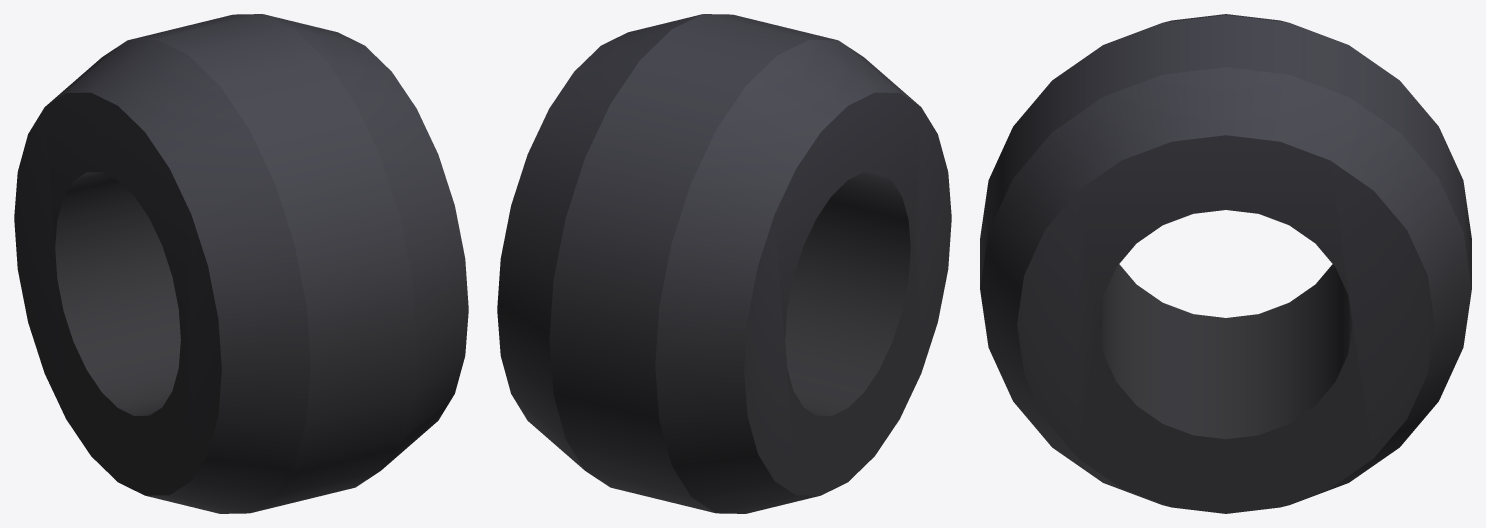
The model's file is debris-tire.glb.
3 renders of one model, left to right at view 1: azimuth 30°, elevation 25°; view 2: azimuth 150°, elevation 25°; view 3: azimuth 270°, elevation 25°, orthographic.
Parts seen in each view (by area): view 1: debris-tire; view 2: debris-tire; view 3: debris-tire.
Boxes of the visible parts, left/top/right/bottom form: debris-tire: left=14, top=14, right=468, bottom=513; debris-tire: left=497, top=14, right=951, bottom=513; debris-tire: left=980, top=14, right=1471, bottom=513.
Bounding box in the file's own units: 0.35 × 0.6 × 0.6.
Materials: 1 (1 with a texture image).
